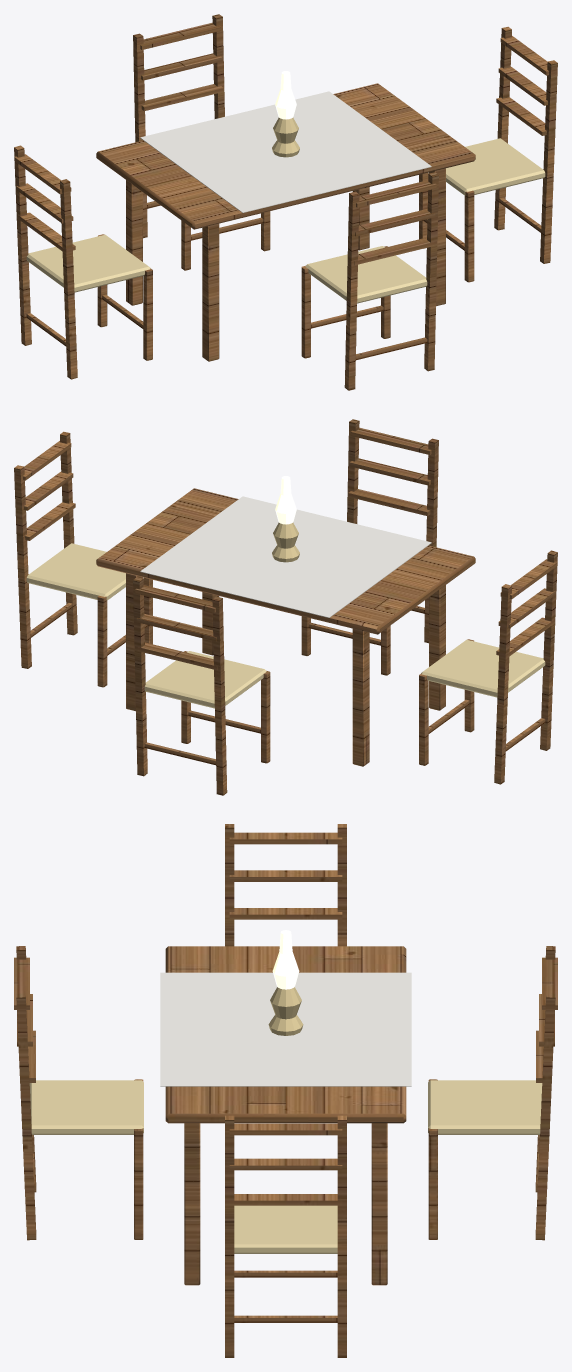
File: kitchen_table.glb
3 views of the same model, one above another, from view 1: azimuth 30°, elevation 25°; view 2: azimuth 150°, elevation 25°; view 3: azimuth 270°, elevation 25° (orthographic). The views are drawn at different scales.
Parts seen in each view (by area): view 1: kitchen_table_wood, kitchen_table_linen, kitchen_table_hay, kitchen_table_brass, kitchen_table_lamp_glass; view 2: kitchen_table_wood, kitchen_table_linen, kitchen_table_hay, kitchen_table_brass, kitchen_table_lamp_glass; view 3: kitchen_table_wood, kitchen_table_linen, kitchen_table_hay, kitchen_table_brass, kitchen_table_lamp_glass.
Part boxes in pixels (x1,y1,x2,y2): kitchen_table_wood: (14, 14, 557, 390); kitchen_table_linen: (140, 91, 431, 212); kitchen_table_hay: (26, 138, 545, 303); kitchen_table_brass: (272, 117, 299, 157); kitchen_table_lamp_glass: (275, 71, 296, 119); kitchen_table_wood: (14, 419, 557, 795); kitchen_table_linen: (140, 496, 431, 617); kitchen_table_hay: (26, 543, 545, 708); kitchen_table_brass: (272, 522, 299, 562); kitchen_table_lamp_glass: (275, 476, 296, 524); kitchen_table_wood: (14, 824, 557, 1357); kitchen_table_linen: (160, 972, 411, 1086); kitchen_table_hay: (29, 1080, 542, 1253); kitchen_table_brass: (268, 987, 303, 1035); kitchen_table_lamp_glass: (272, 930, 299, 989).
Bounding box in the file's own units: 2.63 × 1.16 × 2.03.
Materials: 5 (1 with a texture image).
